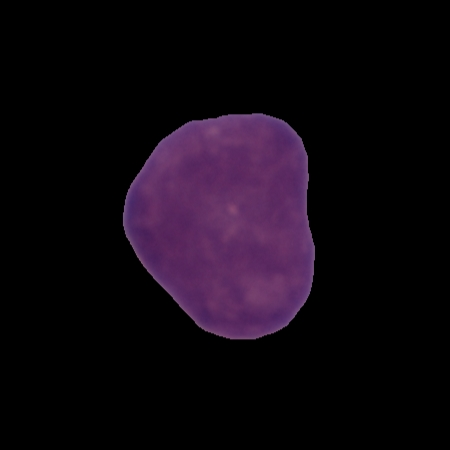HEM: (117, 108, 321, 343)
